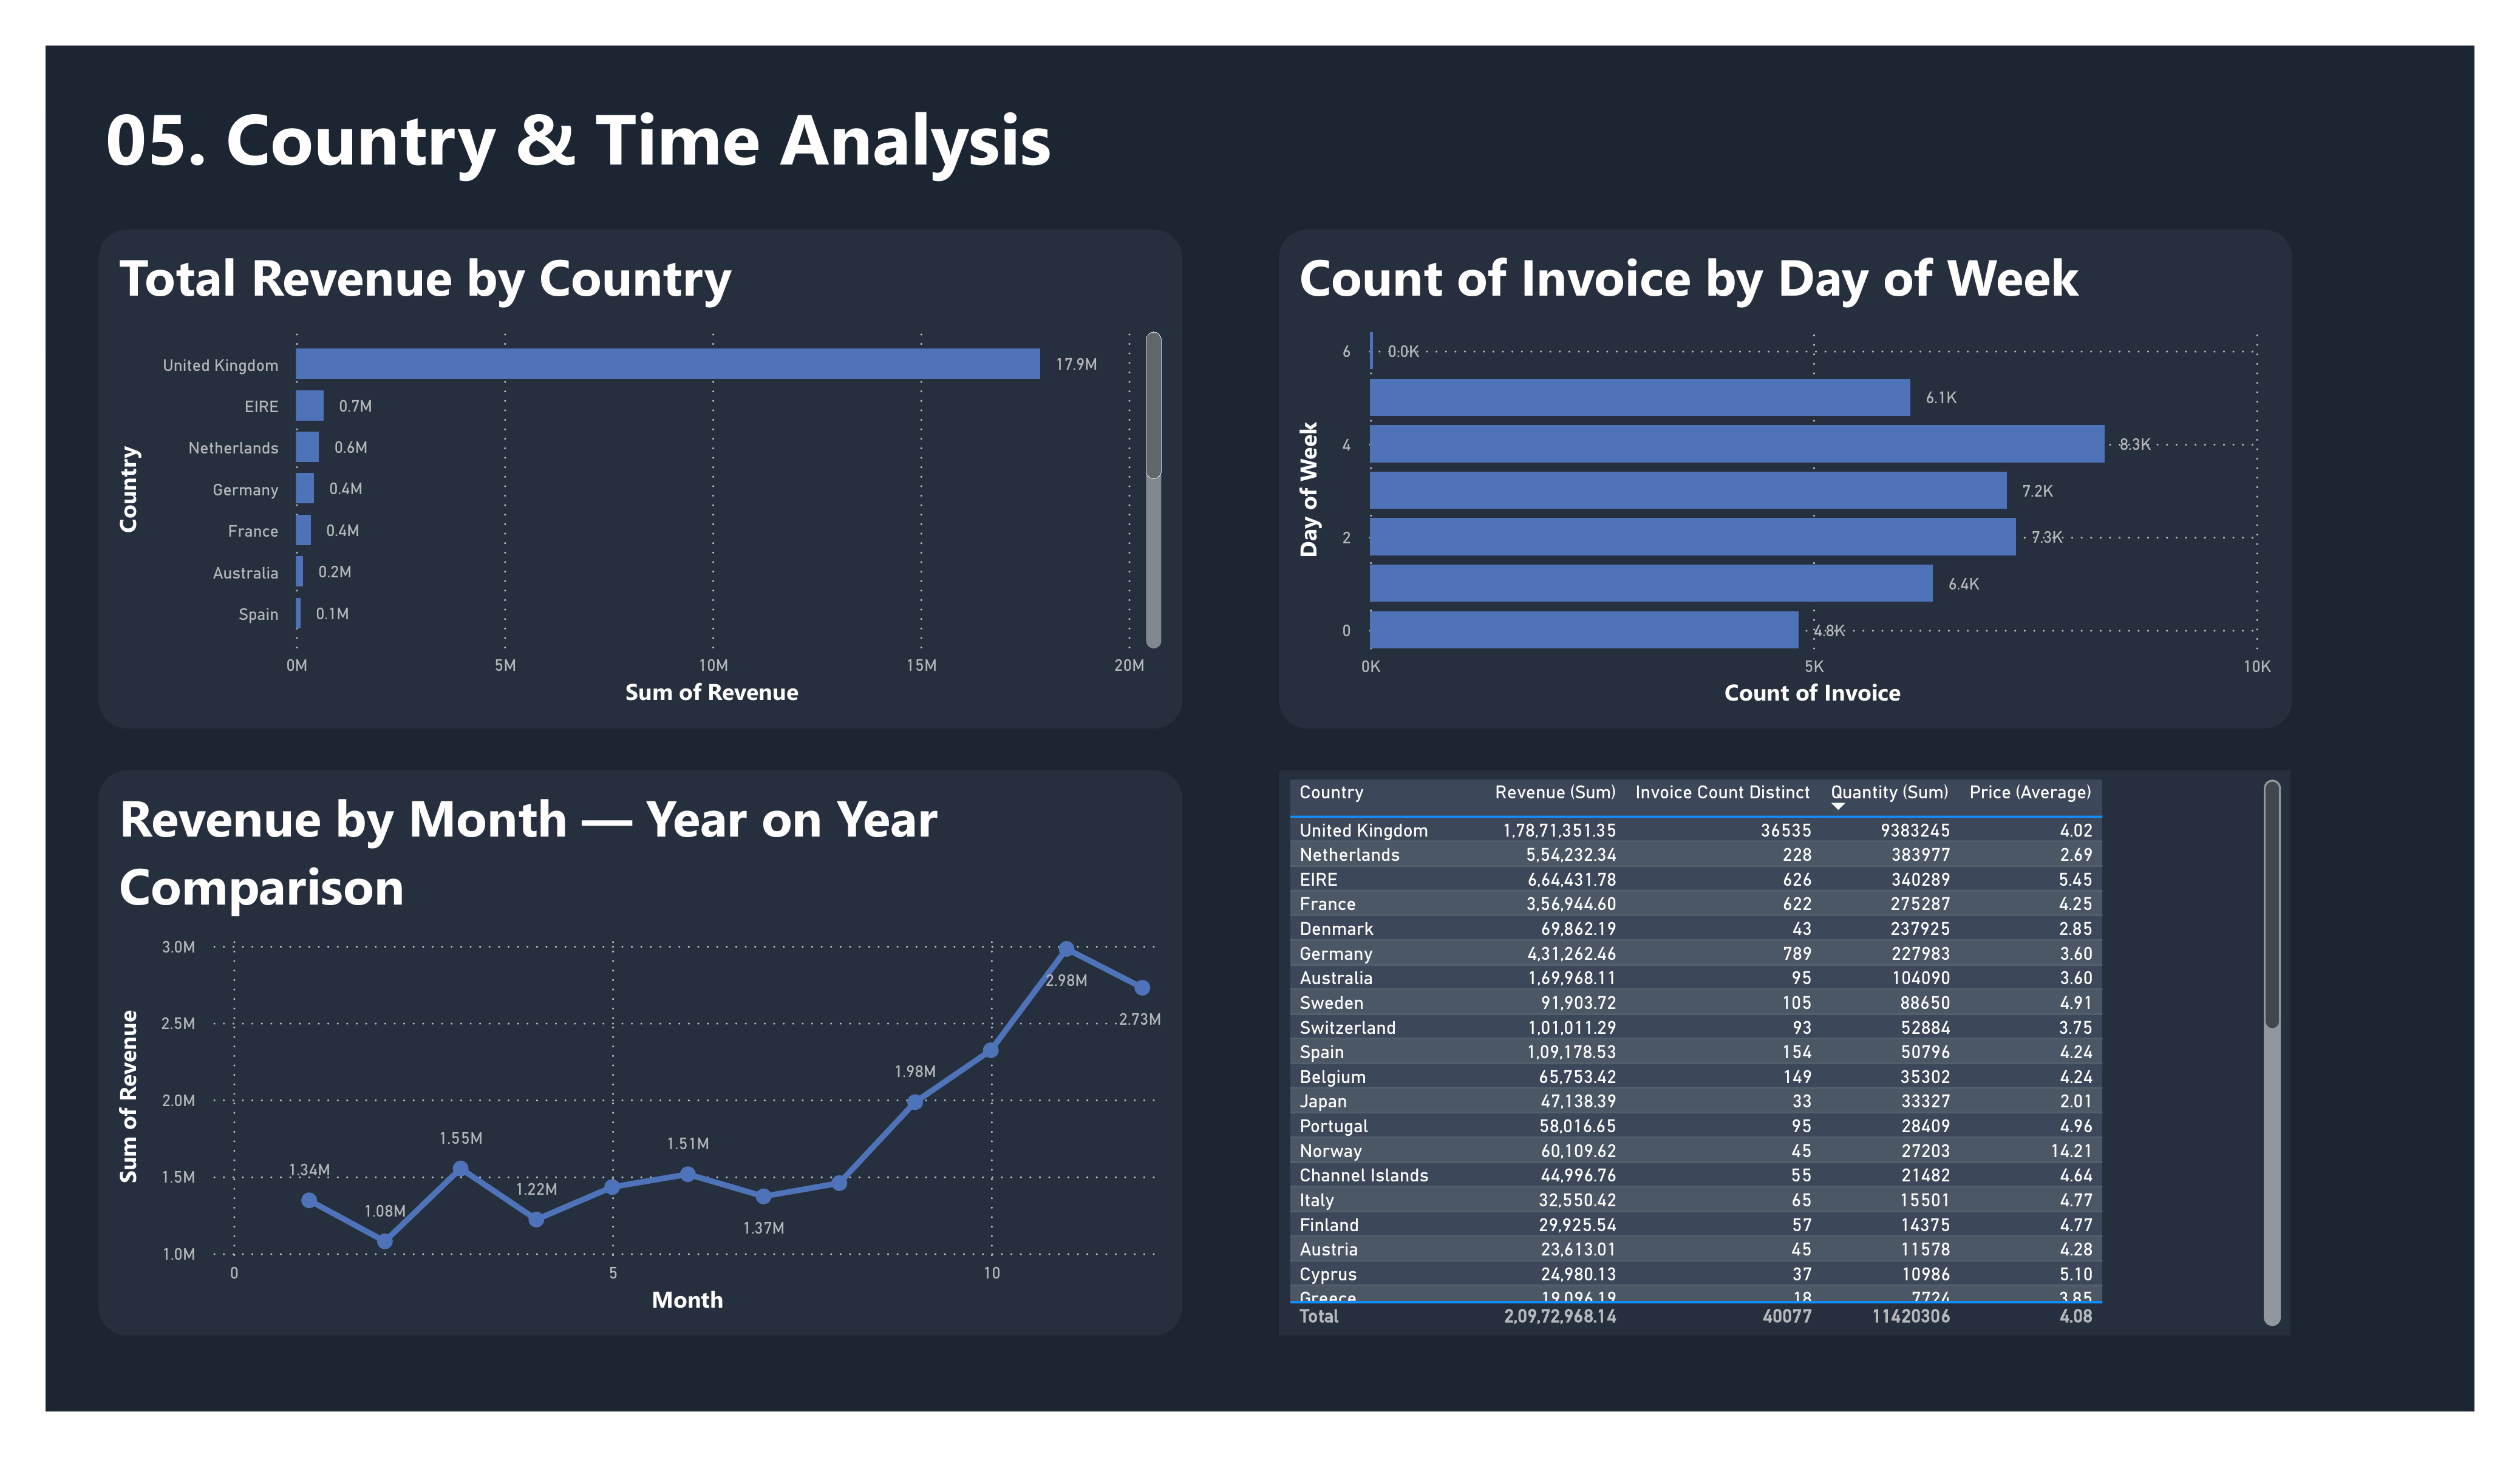

Layout of this report page (visuals, bound fields, positions):
{"tool":"powerbi","page":{"name":"05. Country & Time Analysis","canvas":[1280,720],"ordinal":4},"visuals":[{"type":"textbox","box":[27,17.6,533.2,64.5],"z":0},{"type":"clusteredBarChart","title":"Total Revenue by Country","fields":{"Category":["Cleaned_Combined_Data.Country"],"Y":["Sum(Cleaned_Combined_Data.Revenue)"]},"box":[28.1,97.3,570.7,262.5],"z":1000},{"type":"clusteredBarChart","fields":{"Y":["Count(Cleaned_Combined_Data.Invoice)"],"Category":["Cleaned_Combined_Data.Day of Week"]},"box":[650.4,97.3,533.2,262.5],"z":2000},{"type":"lineChart","title":"Revenue by Month — Year on Year Comparison","fields":{"Category":["Cleaned_Combined_Data.Month"],"Y":["Sum(Cleaned_Combined_Data.Revenue)"]},"box":[28.1,382,570.7,297.7],"z":3000},{"type":"tableEx","fields":{"Values":["Cleaned_Combined_Data.Country","Sum(Cleaned_Combined_Data.Revenue)","Cleaned_Combined_Data.Invoice","Sum(Cleaned_Combined_Data.Quantity)","Avg(Cleaned_Combined_Data.Price)"]},"box":[650,382,533,298],"z":4000}]}

Visuals, with their boxes on the page's 1280x720 design canvas (x1, y1, x2, y2). These are canvas units, not pixel positions in the 2520x1457 screenshot, which may show the page scaled, cropped or inside an application window:
textbox: region(27, 18, 560, 82)
"Total Revenue by Country" clusteredBarChart: region(28, 97, 599, 360)
clusteredBarChart - Count(Cleaned_Combined_Data.Invoice) x Cleaned_Combined_Data.Day of Week: region(650, 97, 1184, 360)
"Revenue by Month — Year on Year Comparison" lineChart: region(28, 382, 599, 680)
tableEx - Cleaned_Combined_Data.Country x Sum(Cleaned_Combined_Data.Revenue): region(650, 382, 1183, 680)
